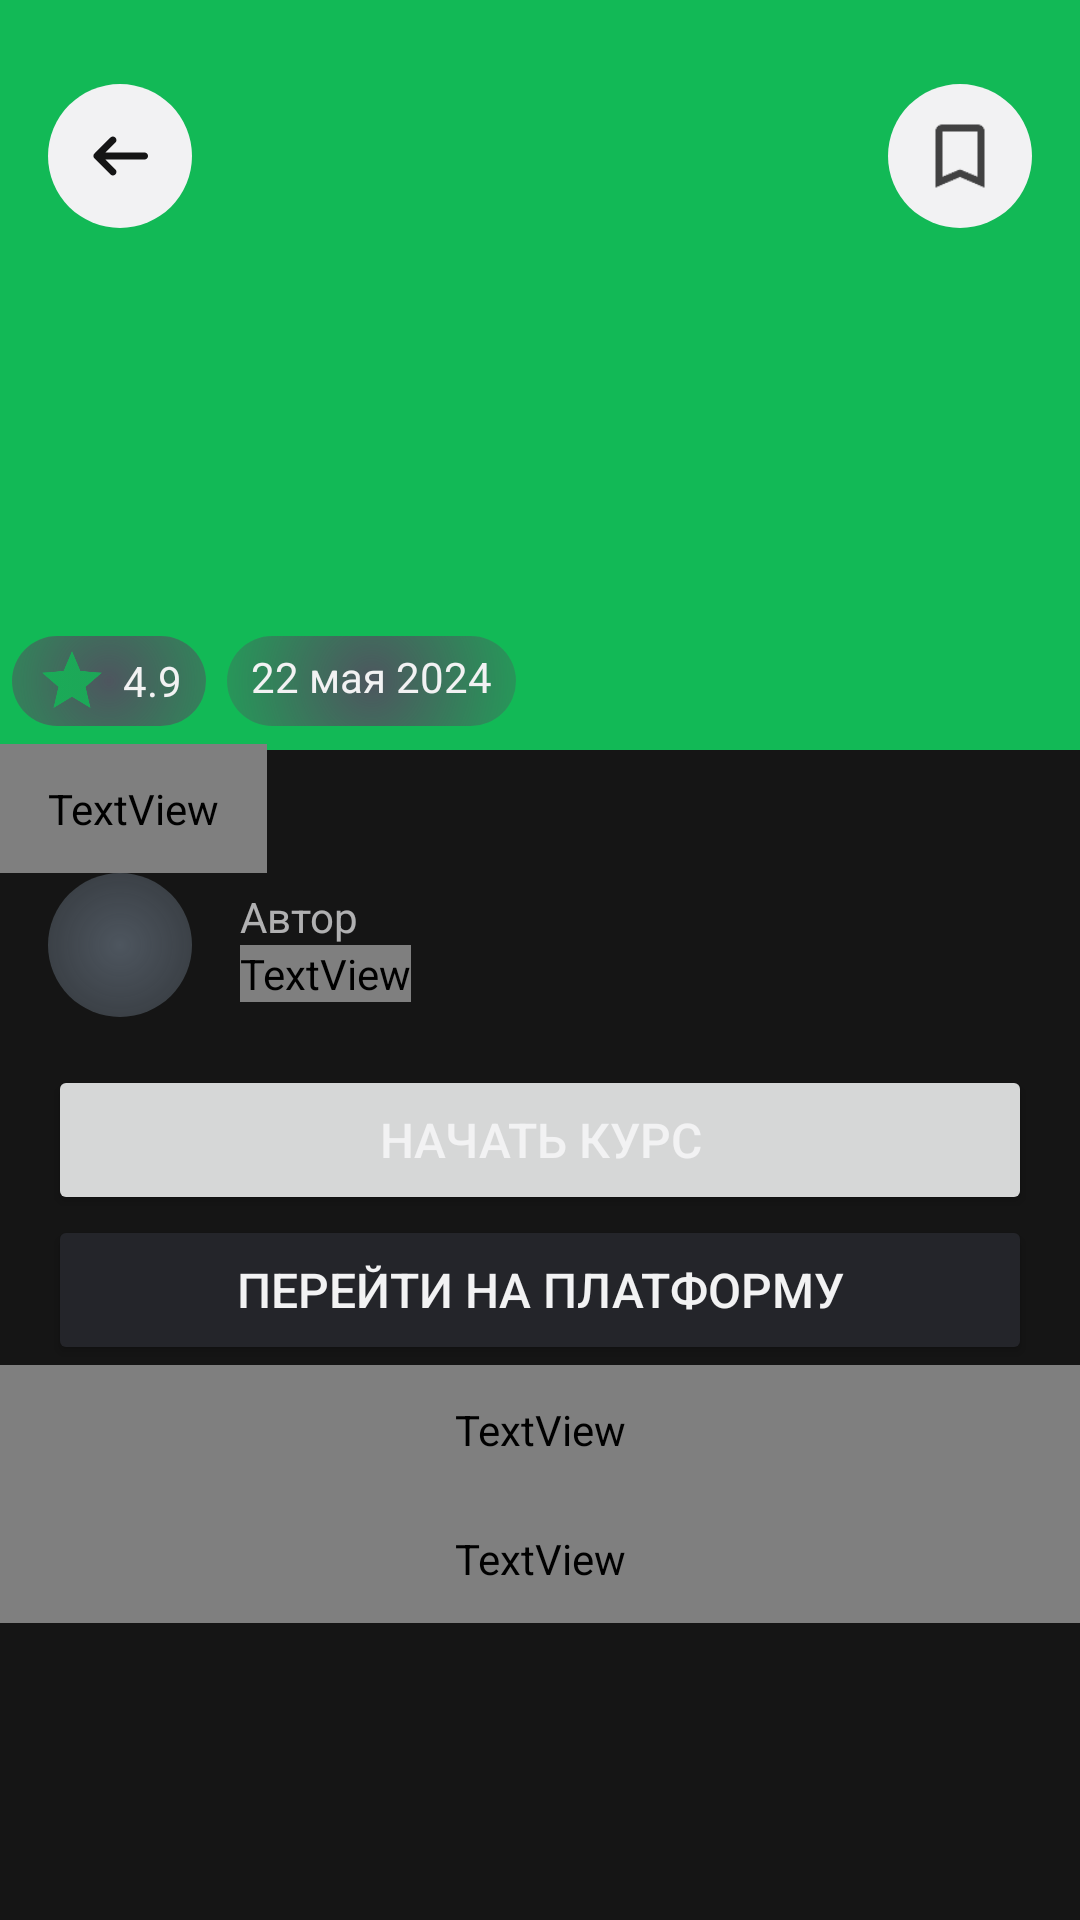

Named icons in this screenshot (1080 x 1920) and their bounding boxes, box(x1, y1, x2, y2):
arrow back: box(48, 84, 192, 228)
favourites tab: box(888, 84, 1032, 228)
